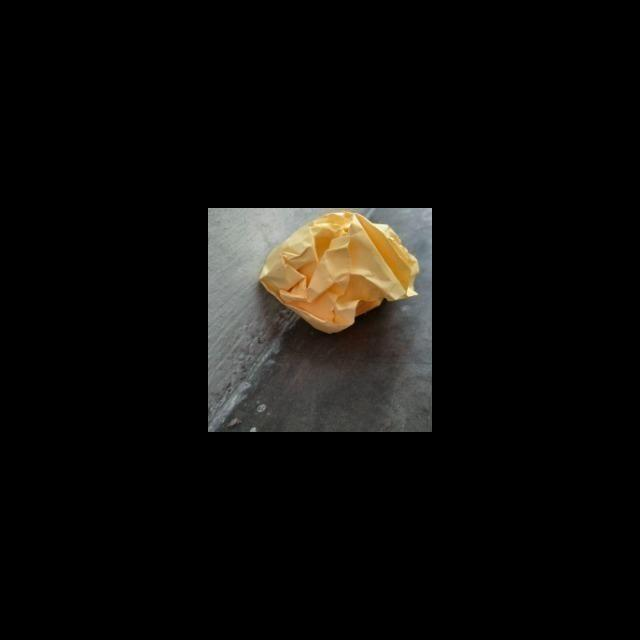paper: (250, 208, 432, 343)
